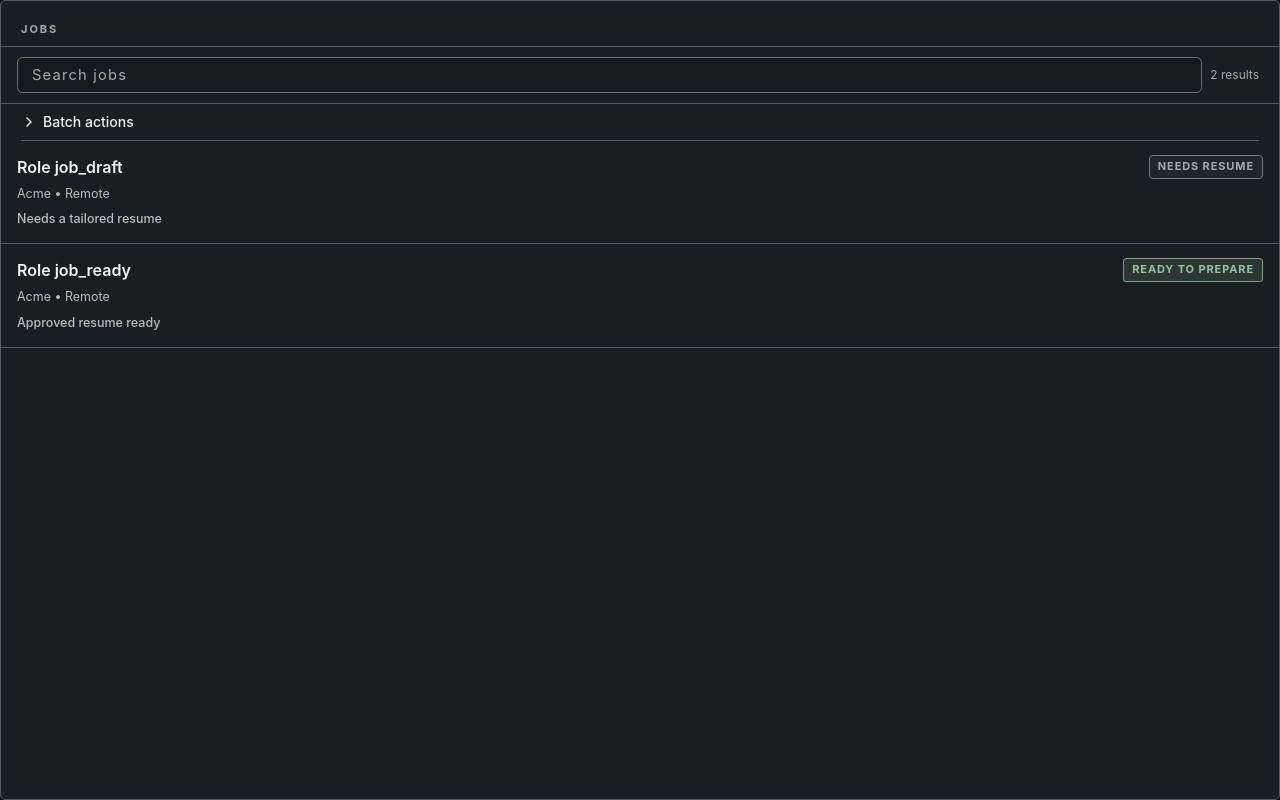
Test: ReviewQueueListPanel › keeps batch controls closed until the accessible disclosure is opened
The width and height of the screenshot is (1280, 800).
Expected: the button "Select all ready jobs" is not shown
Click the heading "Batch actions": (77, 121) x1=21 y1=112 x2=134 y2=130
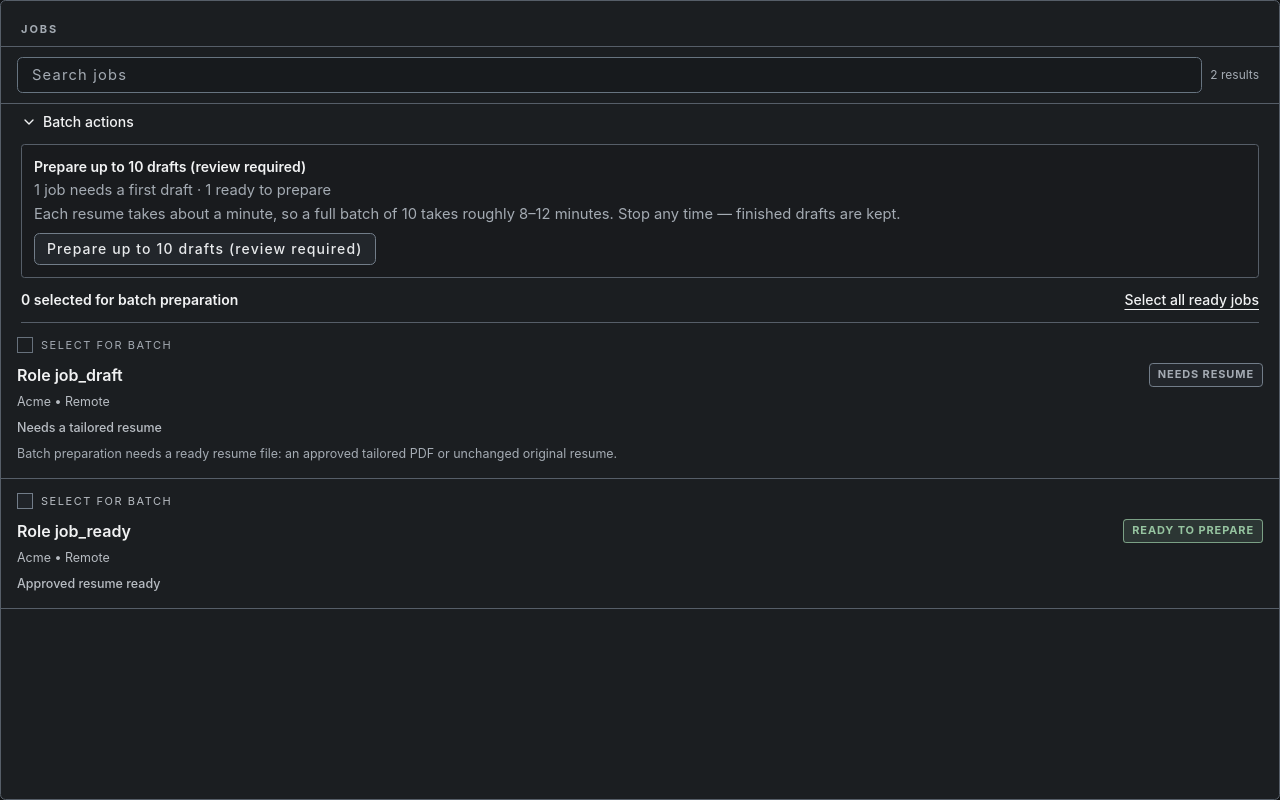
Expected: the heading "Batch actions" is expanded
Expected: the element with test id "tailored-draft-preparation" is shown, x1=21 y1=144 x2=1259 y2=278
Expected: the button "Prepare up to 10 drafts (review required)" is shown, x1=34 y1=233 x2=376 y2=265
Click the heading "Batch actions": (77, 121) x1=21 y1=112 x2=134 y2=130
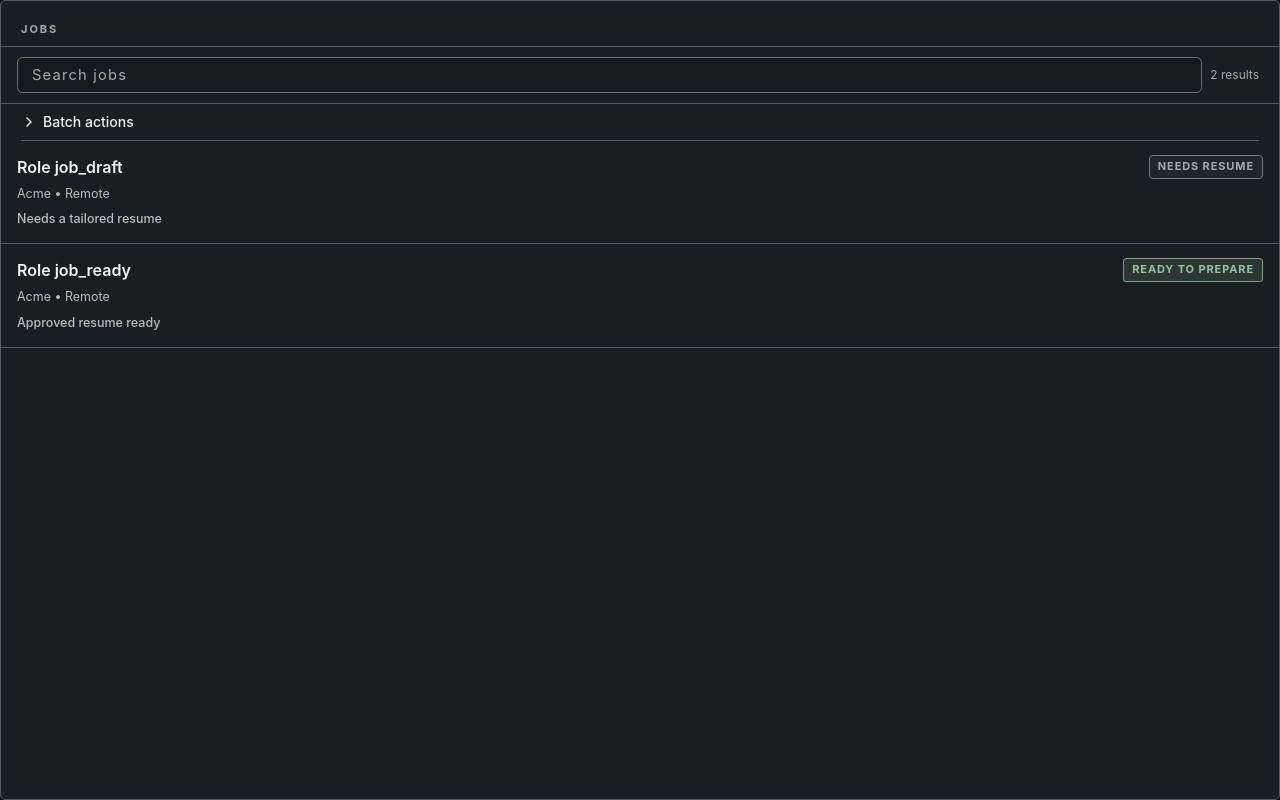
Expected: the heading "Batch actions" is collapsed, x1=21 y1=112 x2=134 y2=130
Expected: the element with test id "tailored-draft-preparation" is gone
